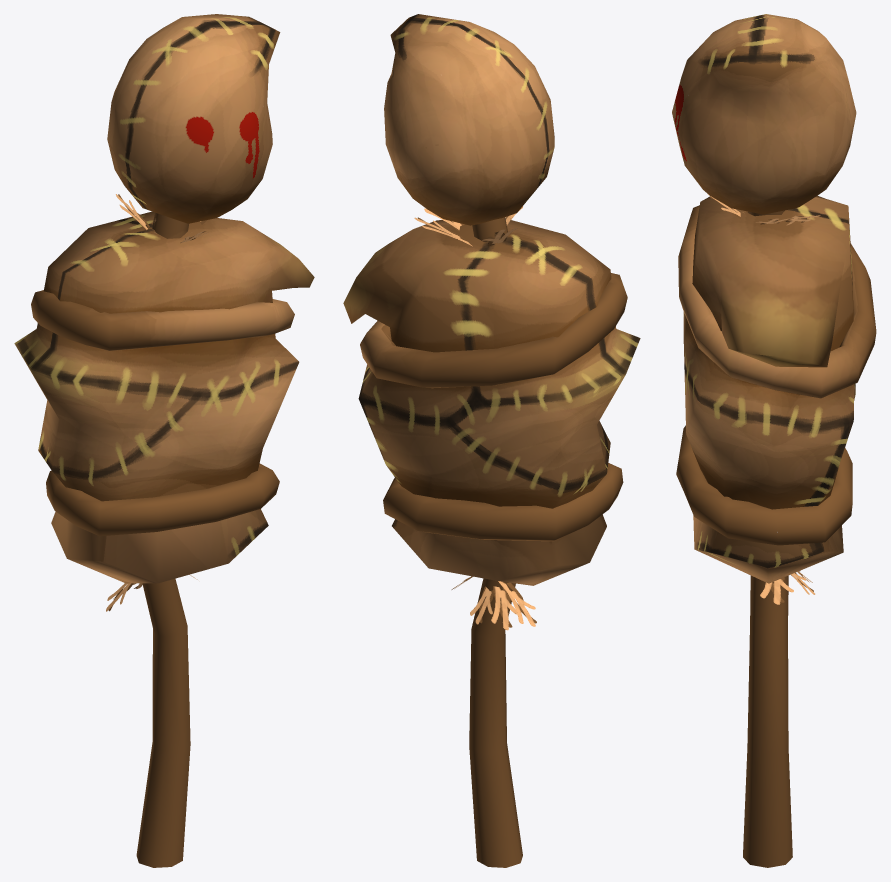
Rendered from Dummy.fbx.
3 renders of one model, left to right at view 1: azimuth 30°, elevation 25°; view 2: azimuth 150°, elevation 25°; view 3: azimuth 270°, elevation 25°, orthographic. The views are drawn at different scales.
Parts seen in each view (by area): view 1: Cylinder; view 2: Cylinder; view 3: Cylinder.
Boxes of the visible parts, x1,y1,x2,y2 form: Cylinder: (14,14,314,867); Cylinder: (343,14,640,867); Cylinder: (672,14,876,867).
Size of the model in its own units: 0.4881 by 1.42 by 0.3096.
1 material, 1 textured.
